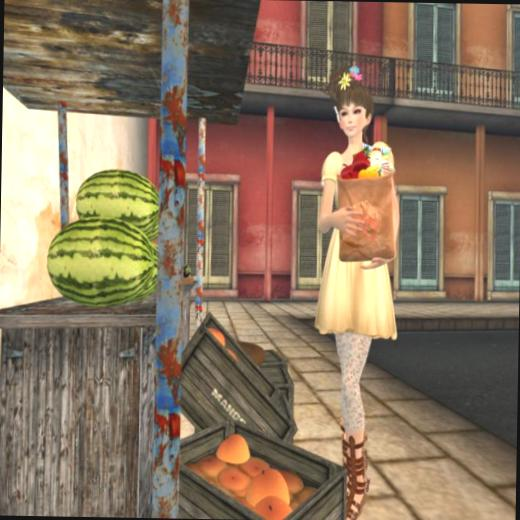Cherry: (45, 214, 154, 308), (75, 167, 163, 236), (142, 243, 162, 297)
